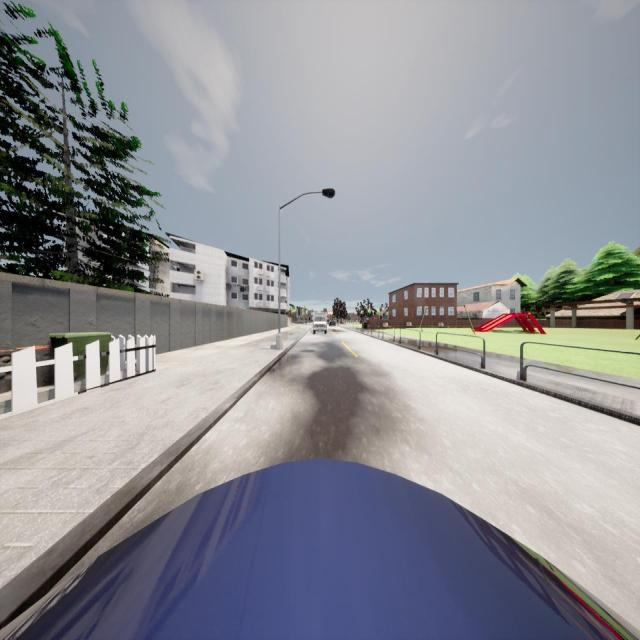Vehicle: (0, 459, 640, 640), (312, 311, 328, 334), (328, 320, 336, 327)
